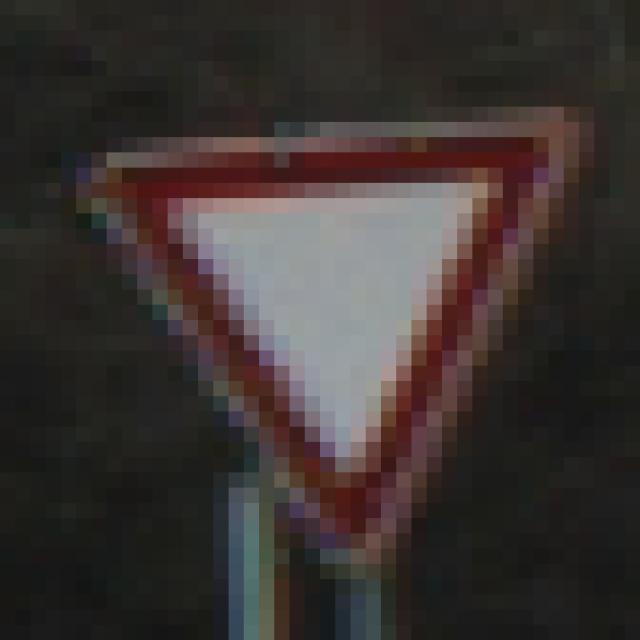Give Way: (77, 93, 565, 550)
